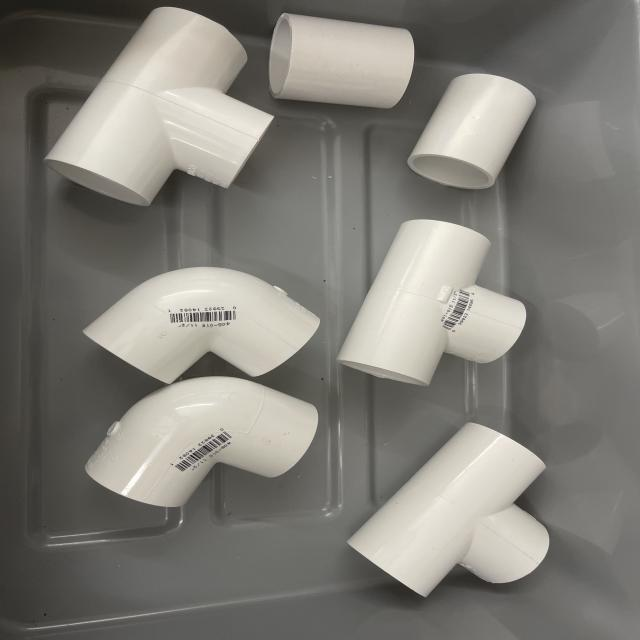L Joint: (83, 378, 319, 512), (82, 267, 321, 385)
T Joint: (44, 9, 276, 207), (347, 422, 551, 600), (338, 220, 529, 389)
